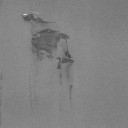slag inclusion: (30, 27, 74, 78), (21, 13, 56, 25), (69, 85, 73, 100), (59, 72, 62, 78)
